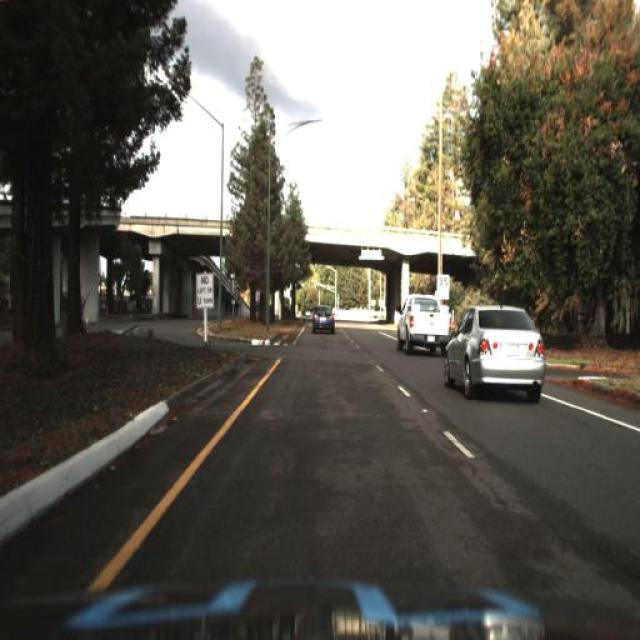car: (440, 294, 554, 402), (396, 291, 452, 360), (310, 300, 336, 335)
